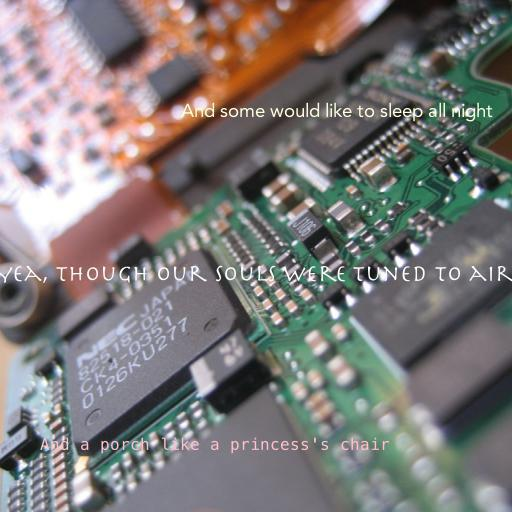Avenir: (181, 102, 493, 122)
Herculanum: (0, 265, 512, 284)
Menlo: (40, 437, 390, 454)
